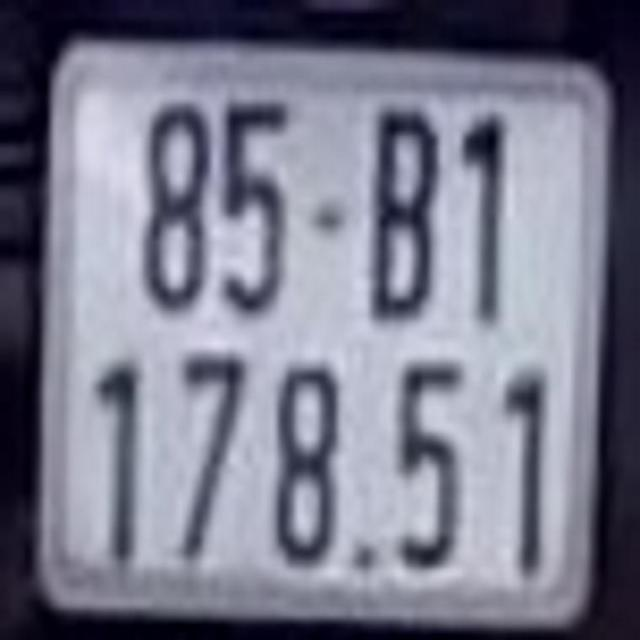1: (503, 372, 553, 580), (462, 112, 509, 323), (93, 362, 143, 554)
5: (401, 363, 465, 567), (226, 103, 282, 308)
7: (183, 354, 243, 559)
8: (273, 364, 346, 556), (144, 104, 203, 303)
B: (372, 111, 438, 323)
